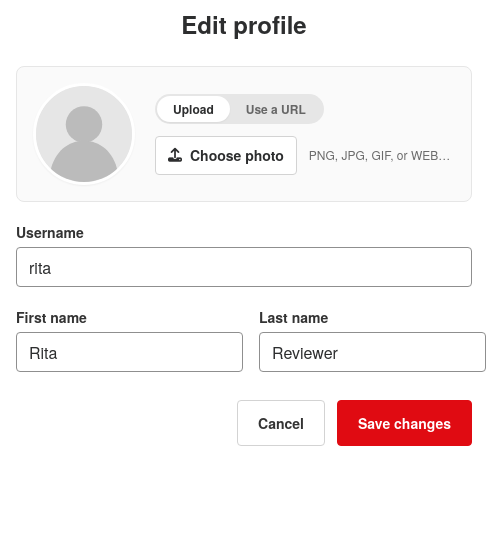
it: a save that can't reach the server gives the form back, saying so
Click the button "Save changes": (404, 423) [337,400,472,446]
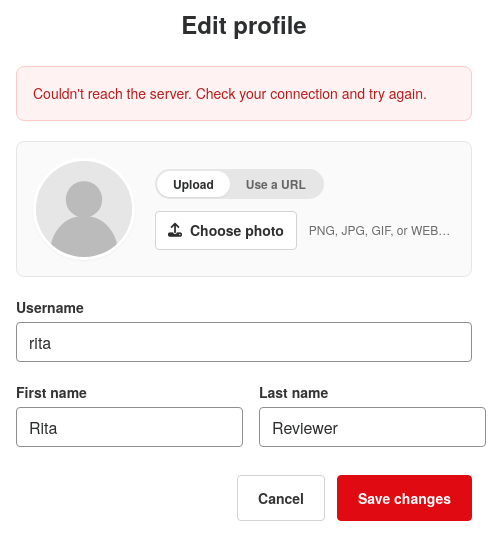
Expected: the button "Save changes" is enabled, [337,475,472,521]
Now the list item "Couldn't reach the server. Check your connection and try again." is shown, box [33,79,455,108]
